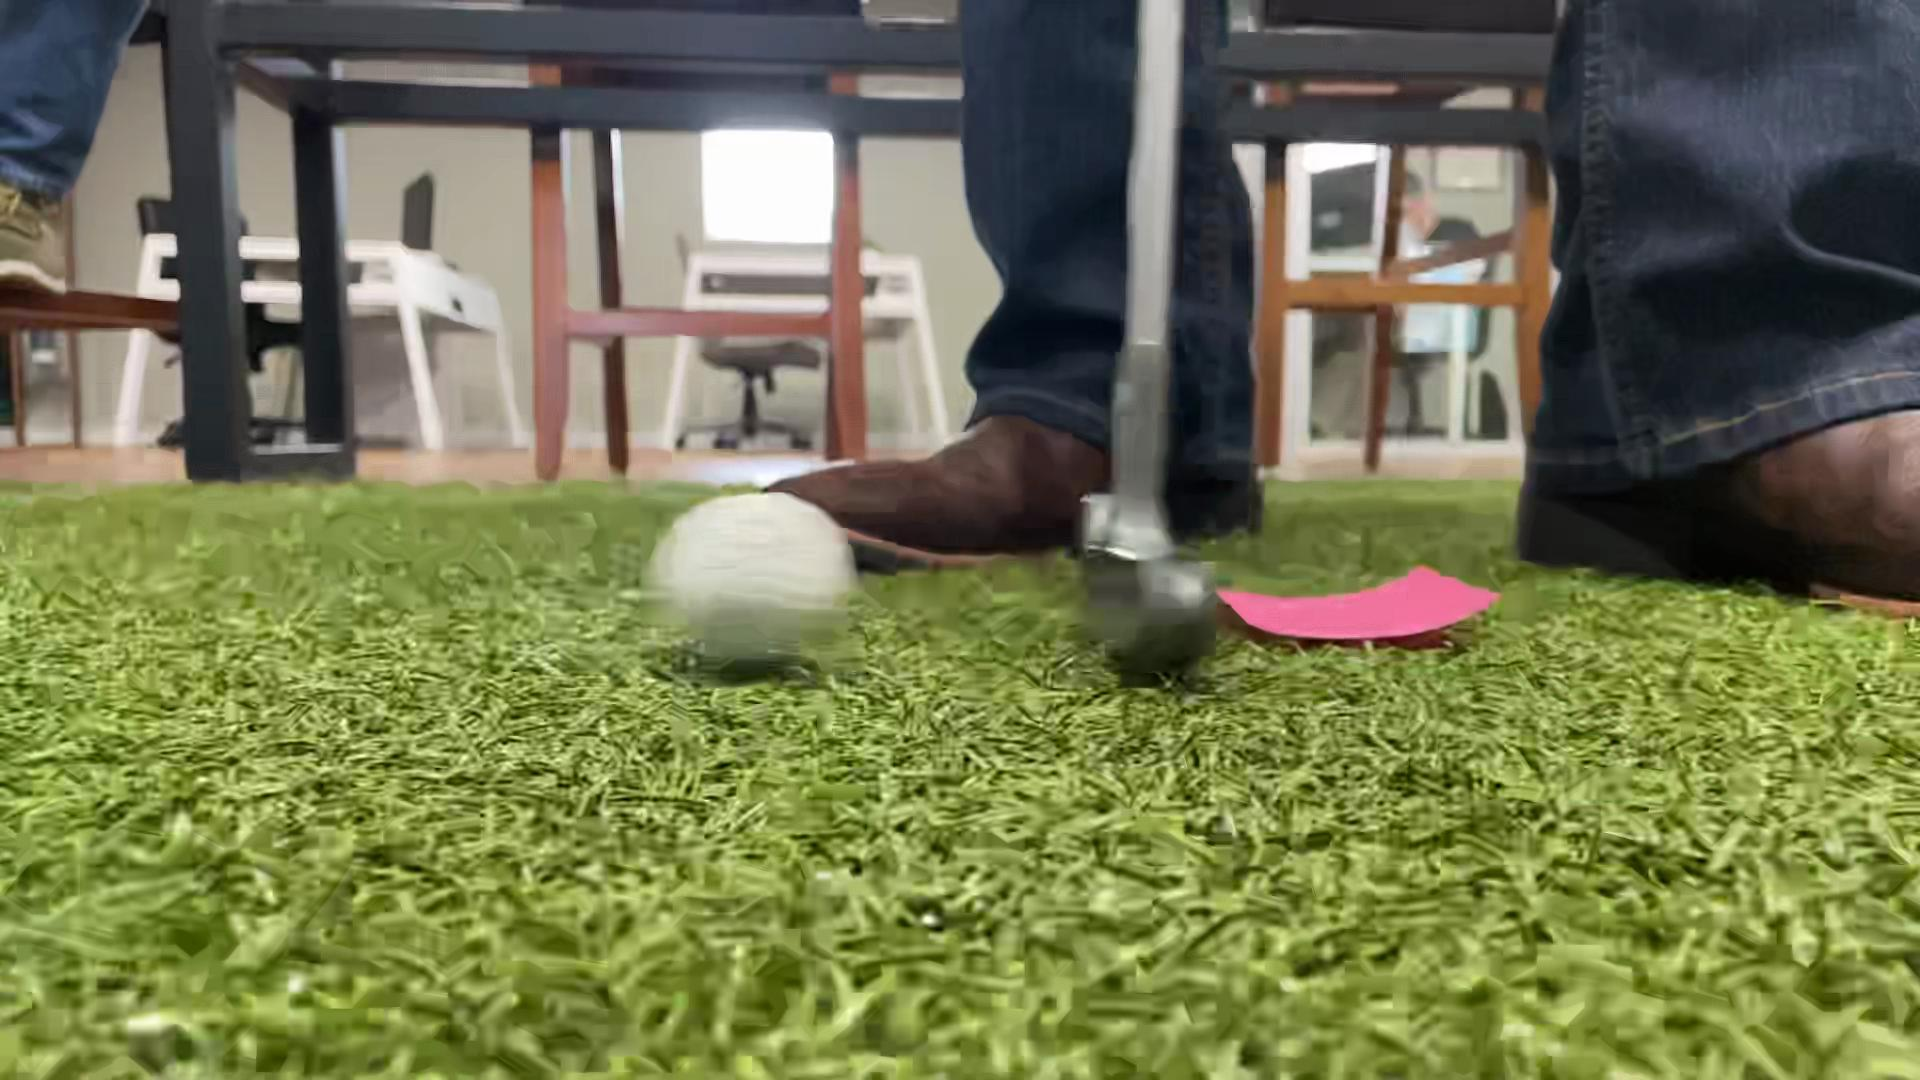golfball: (646, 494, 857, 668)
